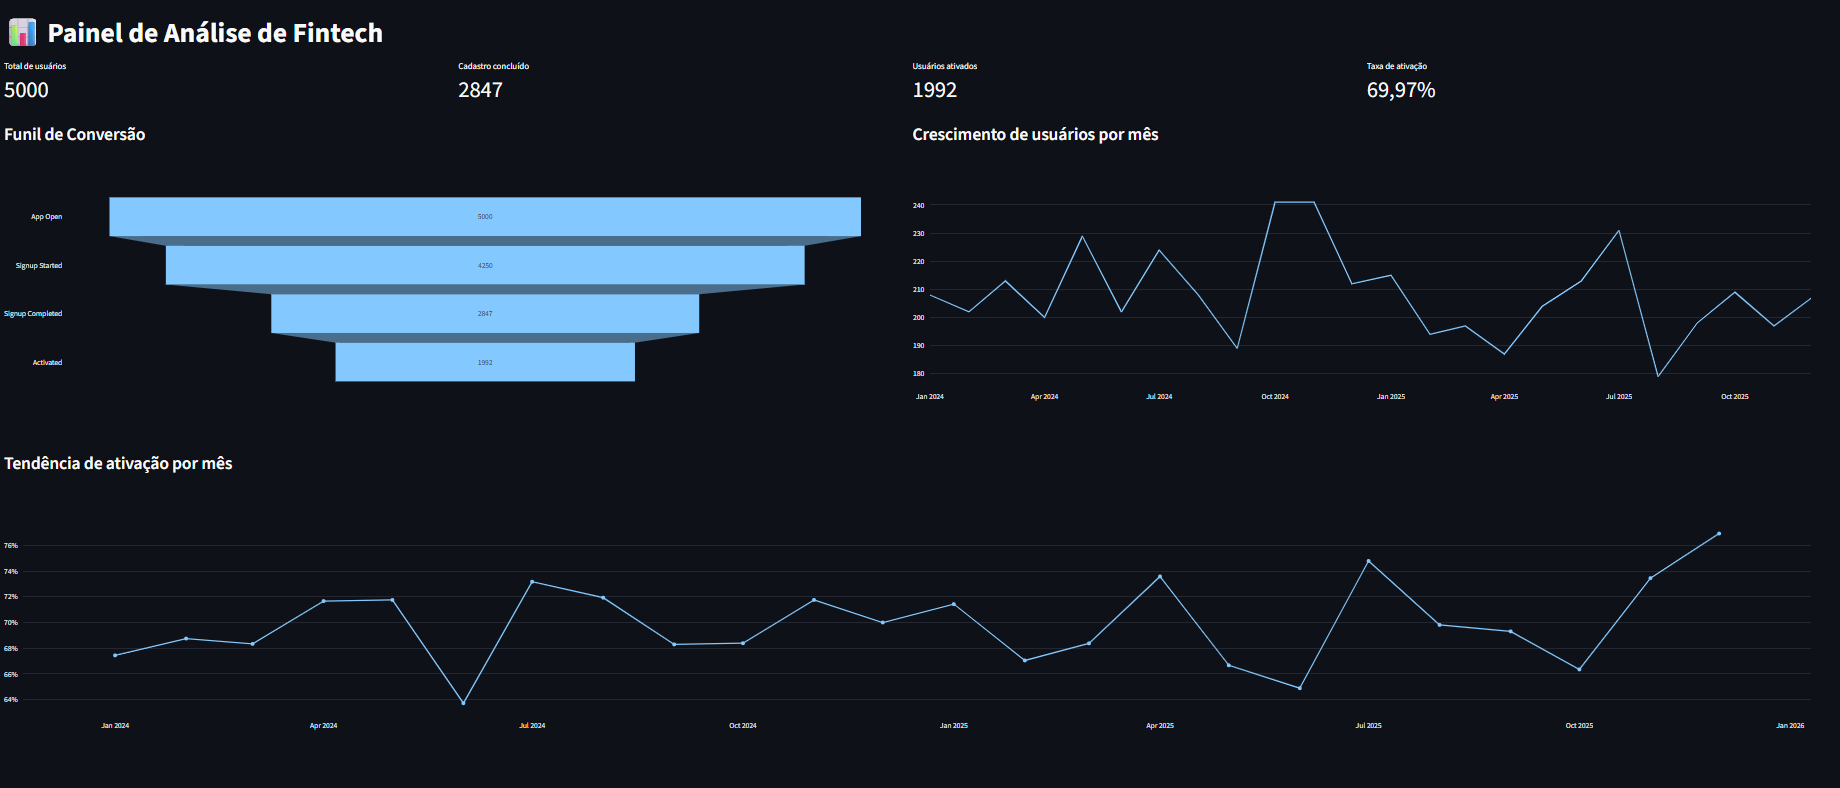

The dashboard page shown, as its layout file describes it:
{"tool":"powerbi","page":{"name":"Página 1","canvas":[1280,720],"ordinal":0},"visuals":[{"type":"cardVisual","fields":{"Data":["users.Total Users","users.Signup Conversion Rate (%)","users.Activation Rate (%)","users.MAU"]},"box":[9.8,0,1262,138.2],"z":0},{"type":"funnel","fields":{"Y":["users.Users App Open","users.Users Signup Started","users.Users Signup Completed","users.Users With Transactions"]},"box":[17.9,137.9,489.9,222.1],"z":1000},{"type":"lineChart","fields":{"Category":["events.created_at.Variation.Hierarquia de datas.Mês"],"Y":["users.Activation Rate (%)"]},"box":[507.7,133.8,763.1,375.5],"z":2000},{"type":"lineChart","fields":{"Y":["users.mau chart","users.MAU","users.DAU chart"],"Category":["events.created_at.Variation.Hierarquia de datas.Ano","events.created_at.Variation.Hierarquia de datas.Mês"]},"box":[36.2,360.6,531.9,148.3],"z":3000},{"type":"pivotTable","fields":{"Rows":["users.created_at.Variation.Hierarquia de datas.Mês"],"Columns":["events.created_at.Variation.Hierarquia de datas.Mês"],"Values":["users.usuarios ativos com app open"]},"box":[648.1,311.8,632.2,156.5],"z":4000}]}

Visuals, with their boxes on the page's 1280x720 design canvas (x1, y1, x2, y2). These are canvas units, not pixel positions in the 1840x788 screenshot, which may show the page scaled, cropped or inside an application window:
cardVisual - users.Total Users x users.Signup Conversion Rate (%): (10,0,1272,138)
funnel - users.Users App Open x users.Users Signup Started: (18,138,508,360)
lineChart - events.created_at.Variation.Hierarquia de datas.Mês x users.Activation Rate (%): (508,134,1271,509)
lineChart - users.mau chart x users.MAU: (36,361,568,509)
pivotTable - users.created_at.Variation.Hierarquia de datas.Mês x events.created_at.Variation.Hierarquia de datas.Mês: (648,312,1280,468)
